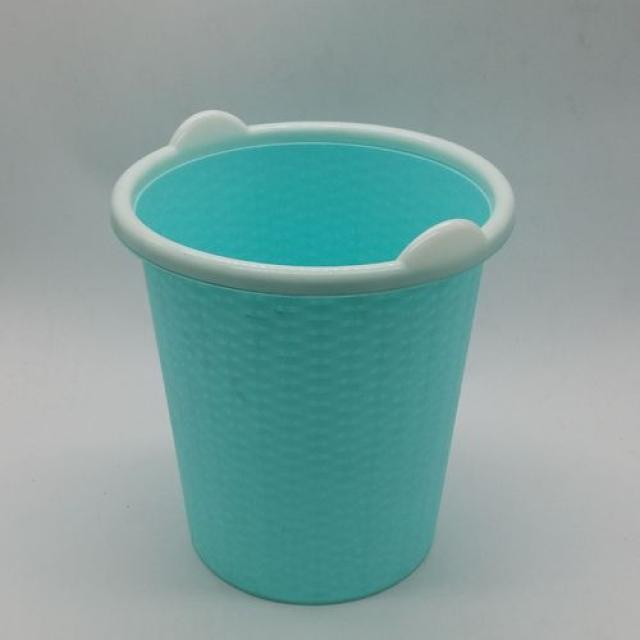dustbin: (105, 101, 521, 614)
